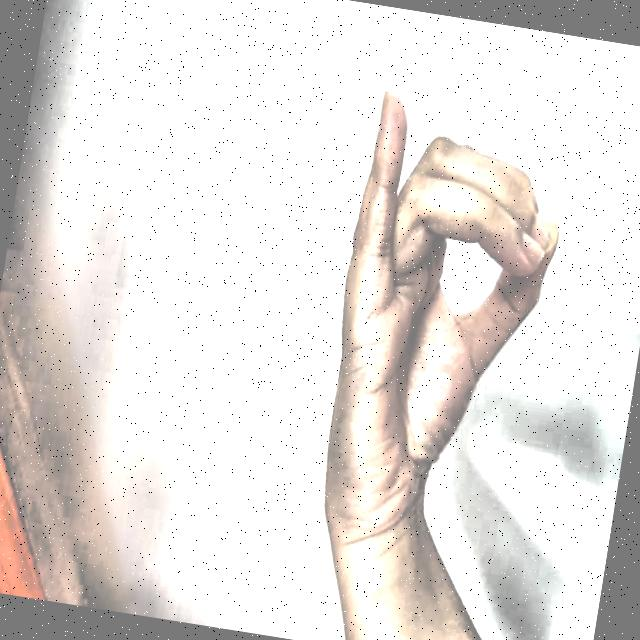Ou: (272, 49, 600, 568)
